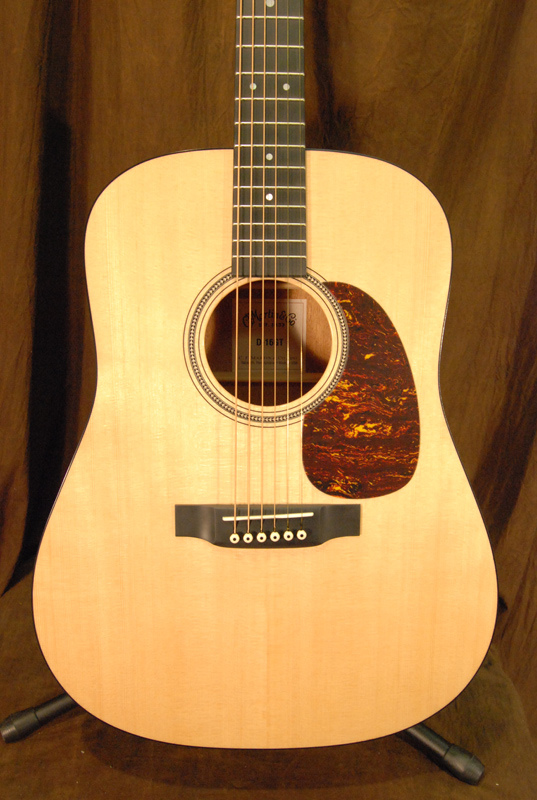guitar: (31, 1, 501, 752)
